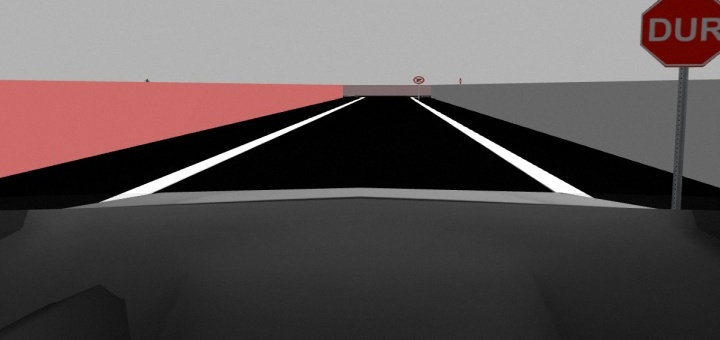dur: (638, 1, 719, 74)
